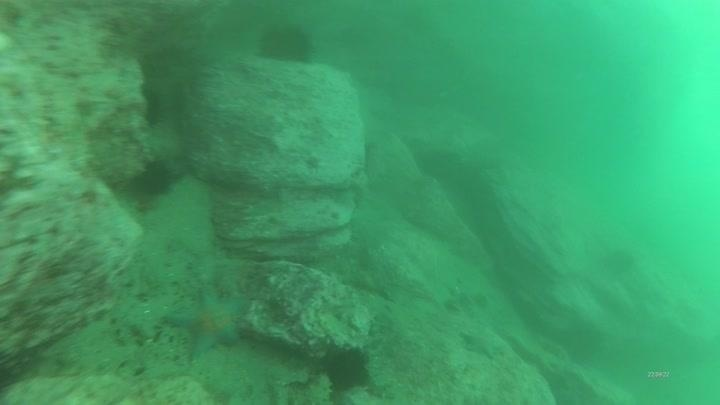echinus: (255, 21, 317, 66), (320, 343, 372, 392), (129, 157, 176, 201), (600, 245, 638, 278)
starfish: (163, 287, 251, 362), (458, 324, 508, 361)
